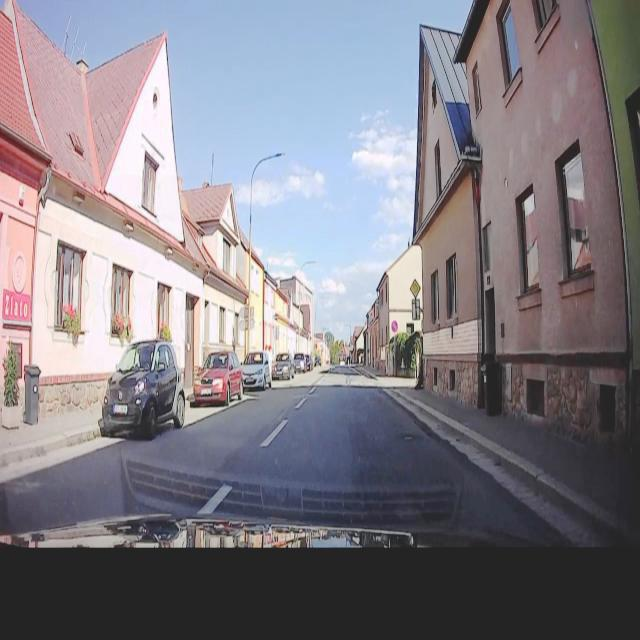Priority road: (409, 276, 421, 298)
